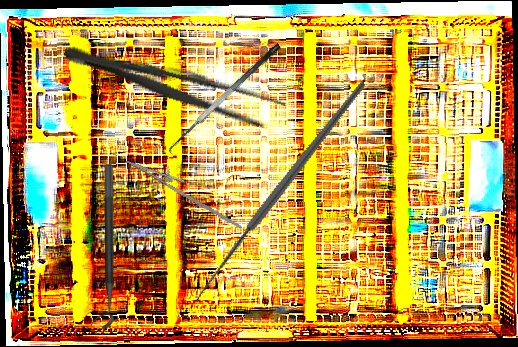Dressing Forceps: (59, 34, 287, 135)
Fixation Ring: (91, 164, 114, 331)
Hook Surgical: (143, 80, 422, 315)
Needle Holder: (119, 150, 253, 230)
Spatula Surgical: (162, 42, 291, 160)
